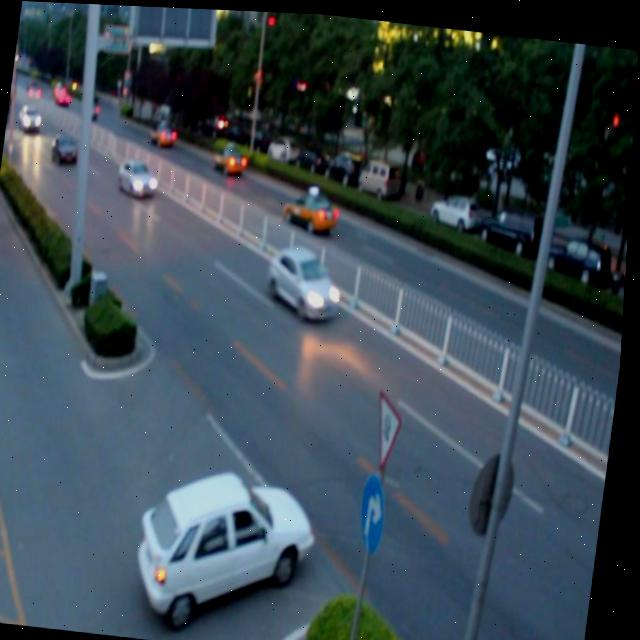car: (135, 462, 327, 627), (267, 241, 347, 320), (284, 187, 343, 231), (117, 153, 162, 196), (212, 142, 251, 175), (151, 116, 179, 148)
